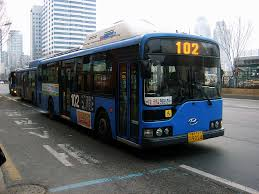bnum: (174, 40, 200, 57)
